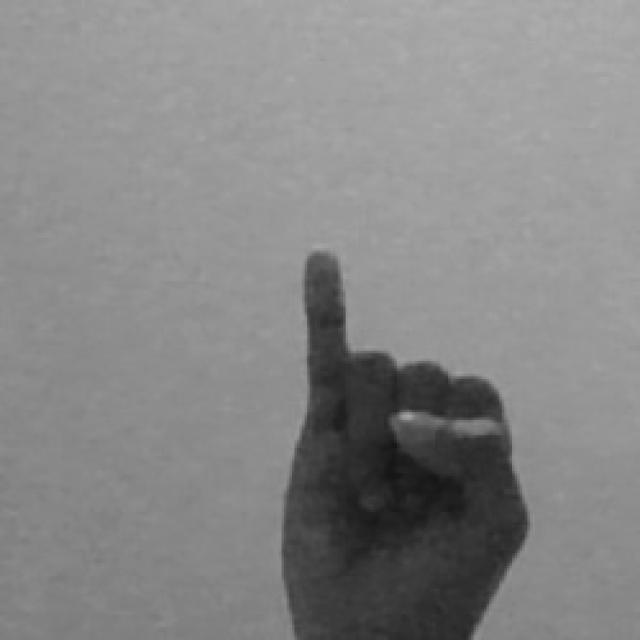I: (278, 247, 535, 640)
